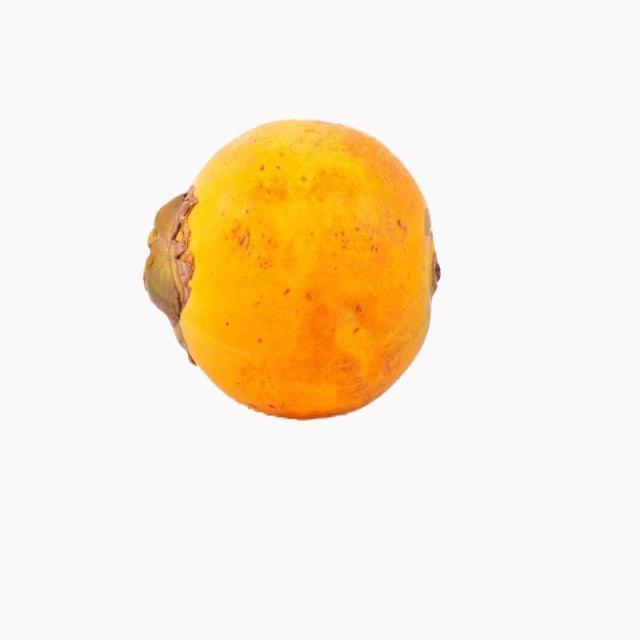good: (144, 119, 441, 422)
